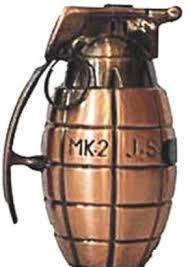Grenade: (0, 2, 178, 265)
